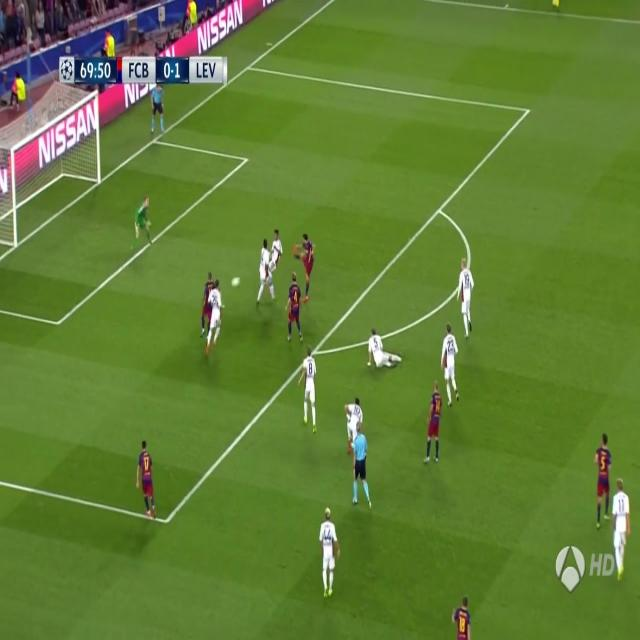Ball: (231, 272, 241, 291)
Goalkeeper: (128, 191, 156, 255)
Player: (318, 505, 342, 603), (591, 428, 613, 530), (296, 346, 320, 436), (613, 476, 632, 584), (440, 320, 462, 409), (134, 438, 156, 524), (422, 381, 444, 466), (204, 278, 226, 361), (366, 327, 404, 375), (292, 227, 316, 301), (254, 238, 278, 311), (456, 255, 476, 338), (285, 272, 305, 347), (342, 396, 366, 452), (199, 269, 214, 343), (451, 594, 475, 640), (269, 226, 283, 269)
Referee: (351, 418, 373, 508), (148, 84, 166, 140)
